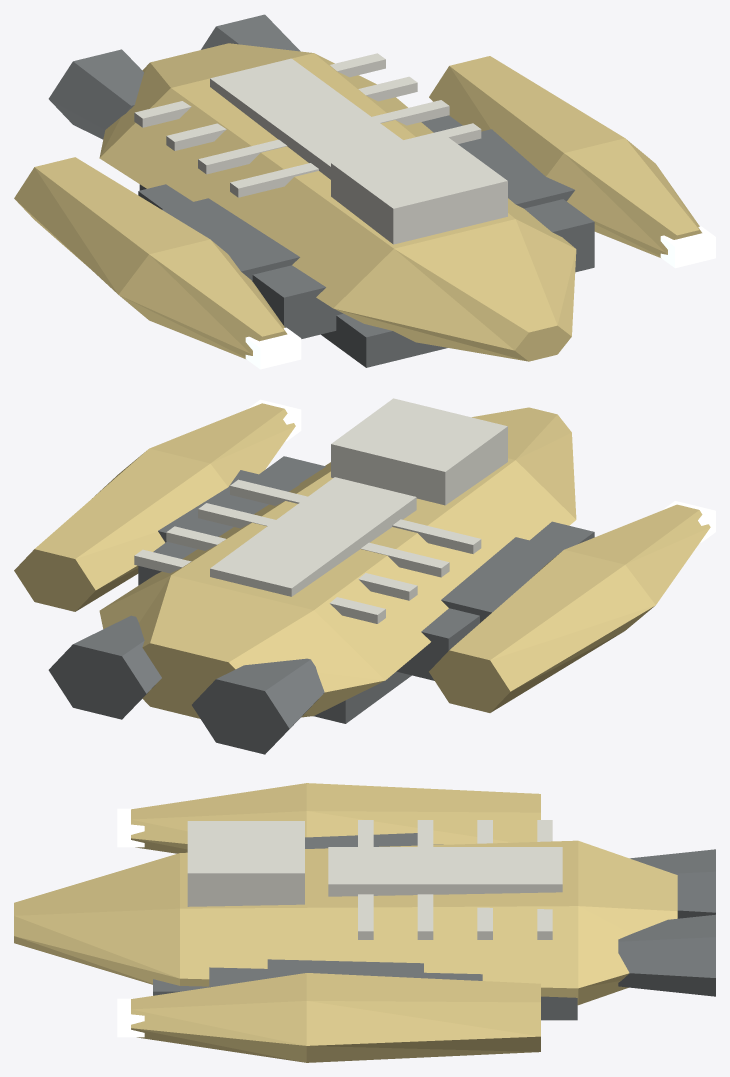
3 renders of one model, top to bottom at view 1: azimuth 30°, elevation 25°; view 2: azimuth 150°, elevation 25°; view 3: azimuth 270°, elevation 25°, orthographic. The views are drawn at different scales.
Bounding box in the file's own units: 6.26 × 1.5 × 7.55.
